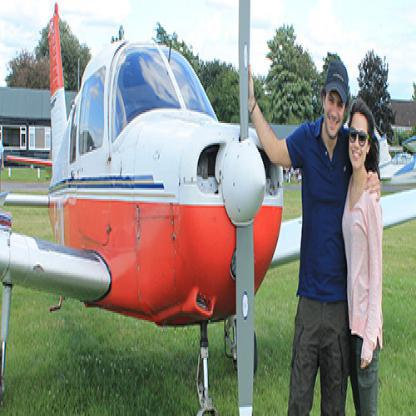CIV_Plane: (5, 0, 410, 335)
